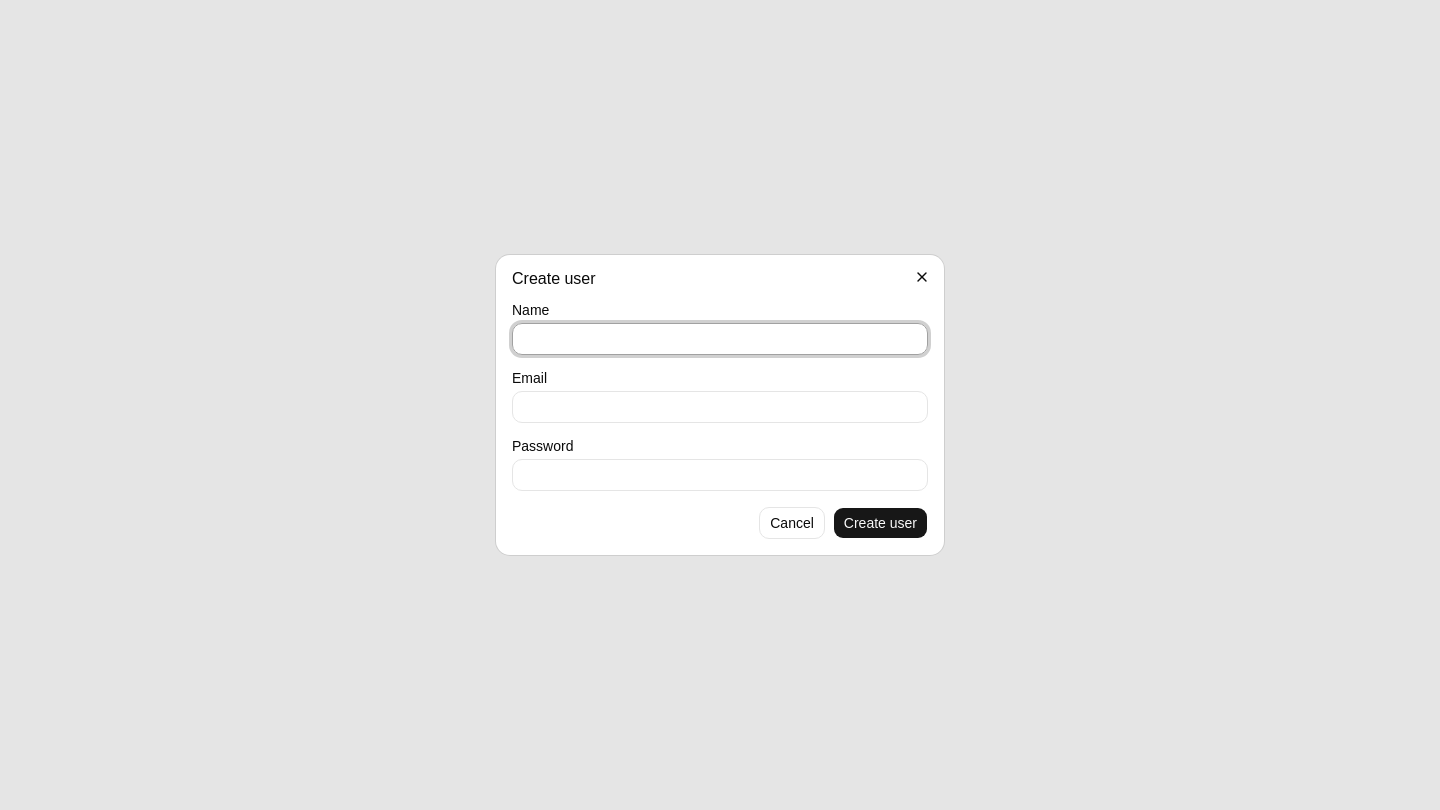
CreateUserDialog › shows validation error when password is too short
Type "Carol Agent" into the field labelled "Name" at (720, 339), box [512,323,928,355]
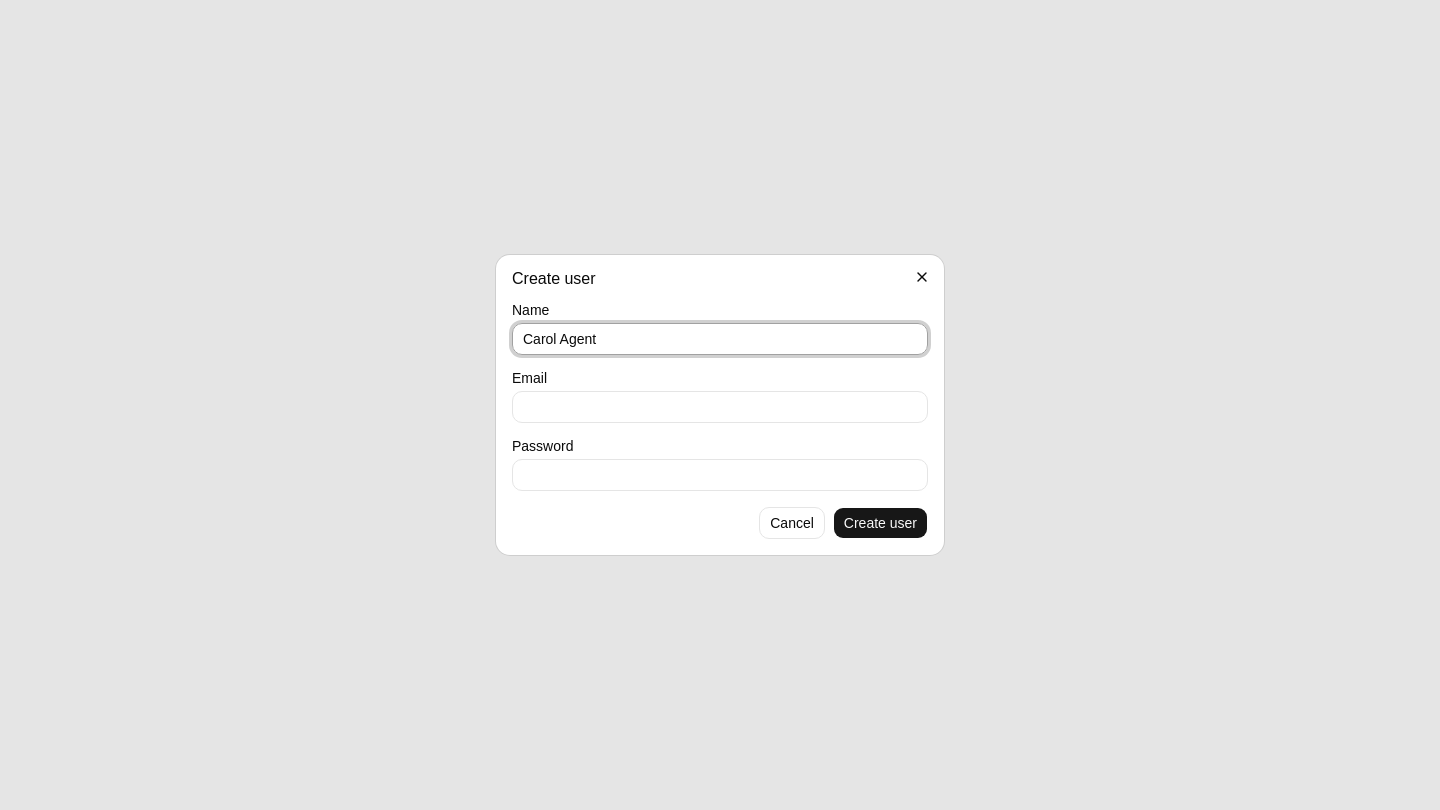
Type "carol@example.com" into the field labelled "Email" at (720, 407), box [512,391,928,423]
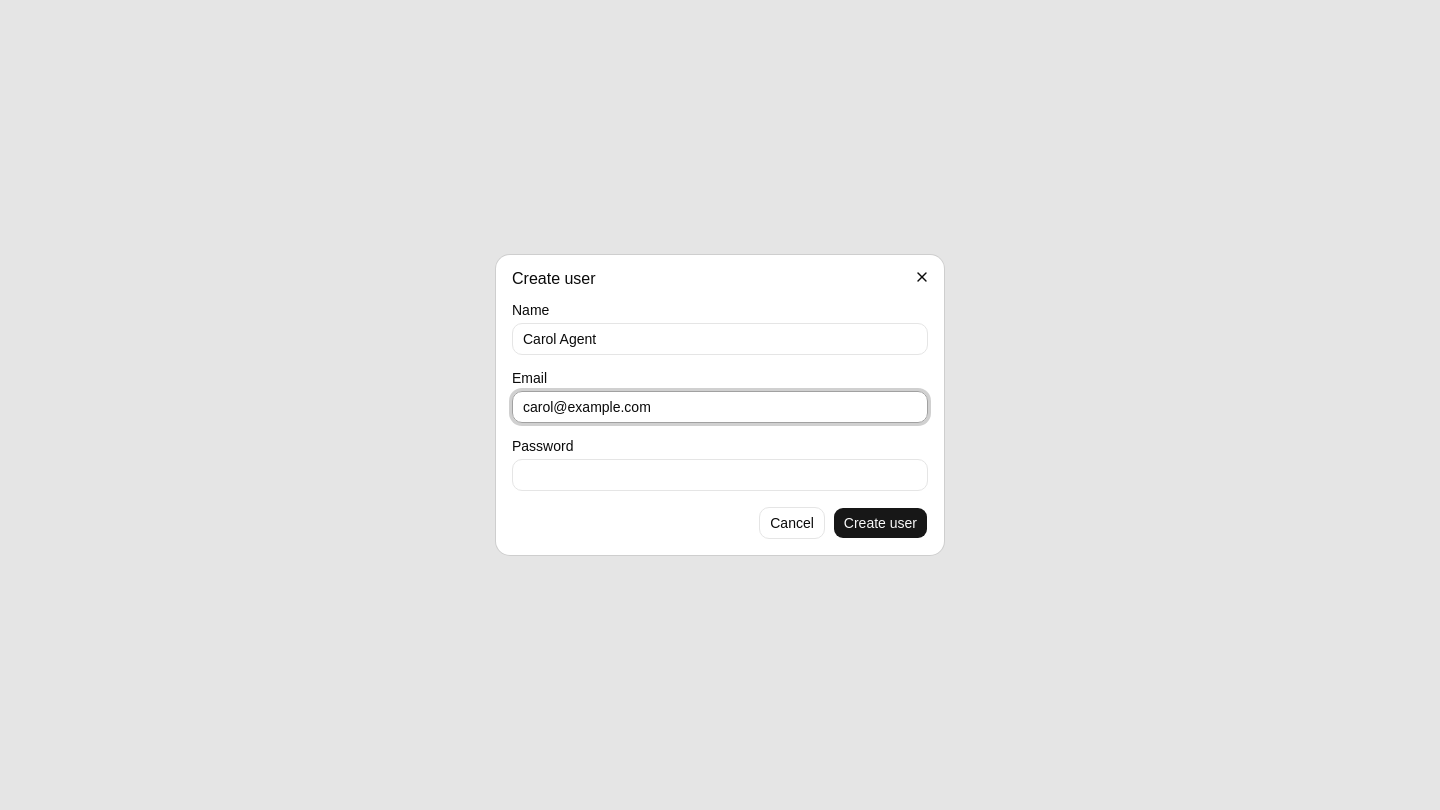
Type "short" into the password field labelled "Password" at (720, 475), box [512,459,928,491]
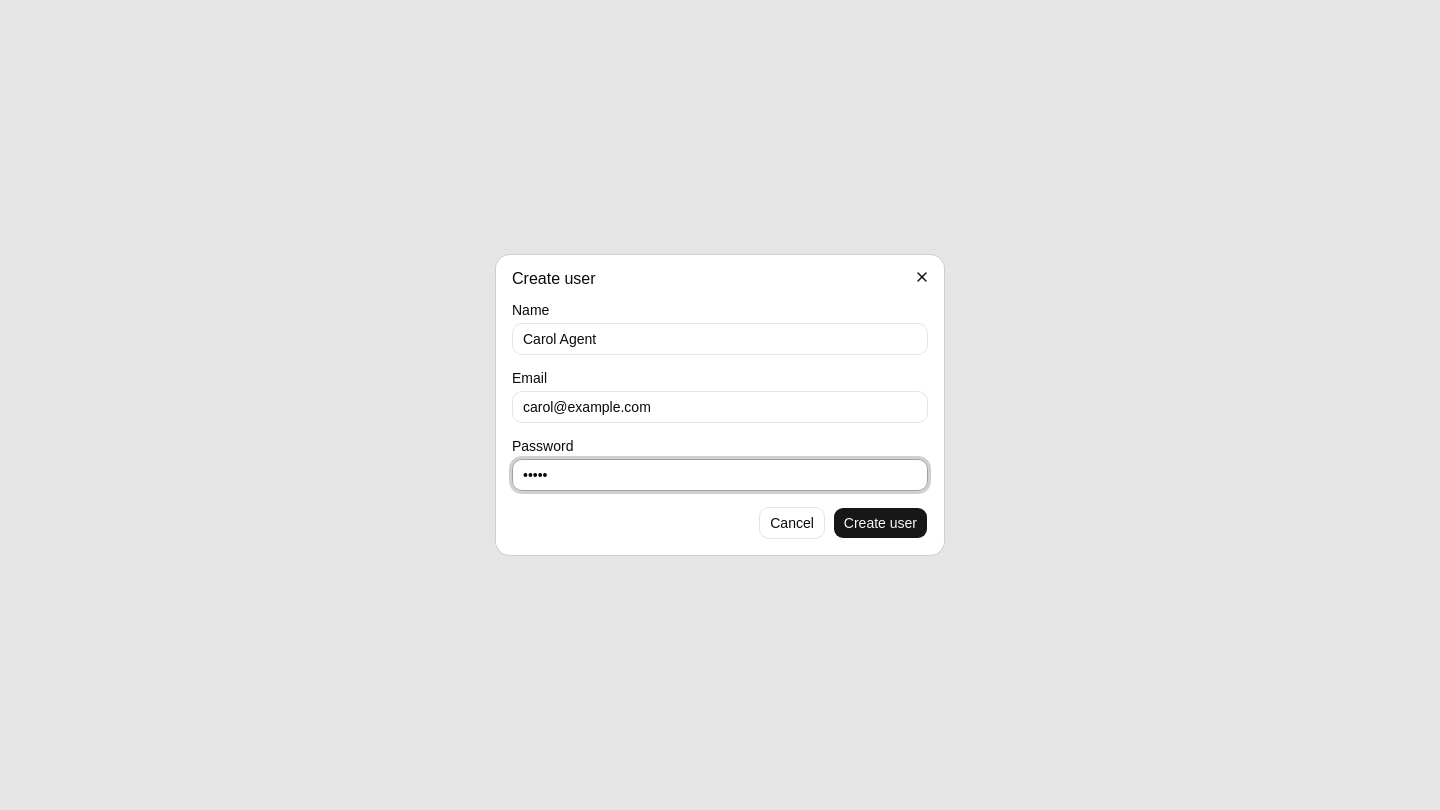
Click the button "Create user" at (880, 523), box [833,507,928,539]
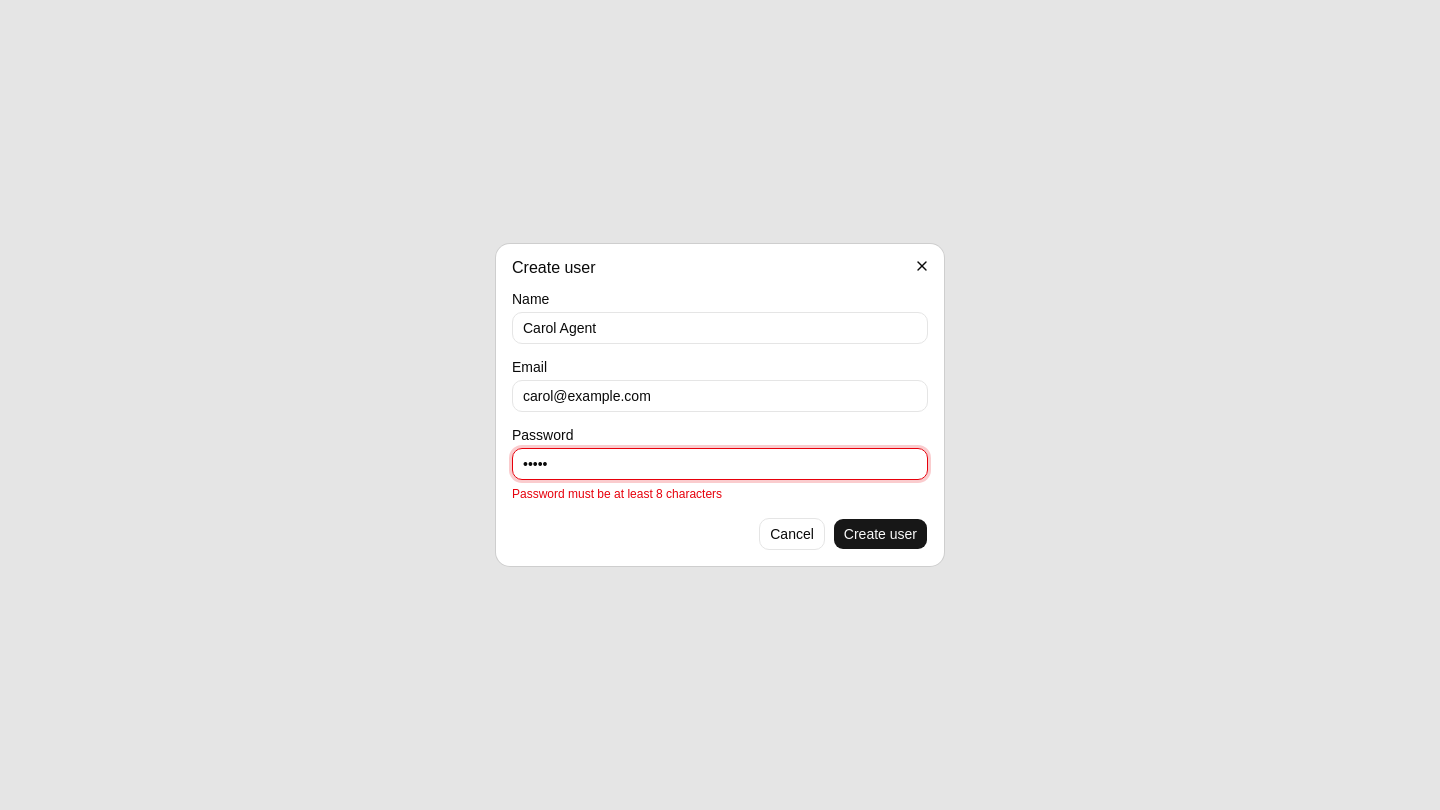
Check: the text "Password must be at least 8 characters" is shown, box [512,487,722,501]
